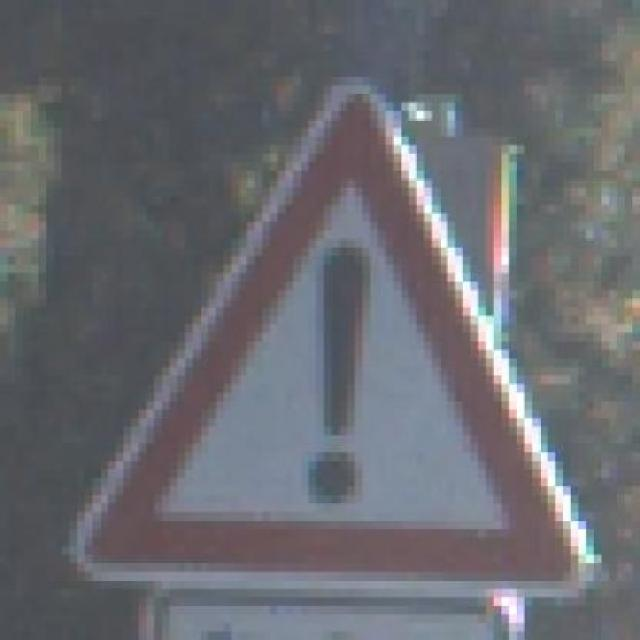Attention Please-: (53, 34, 616, 623)
